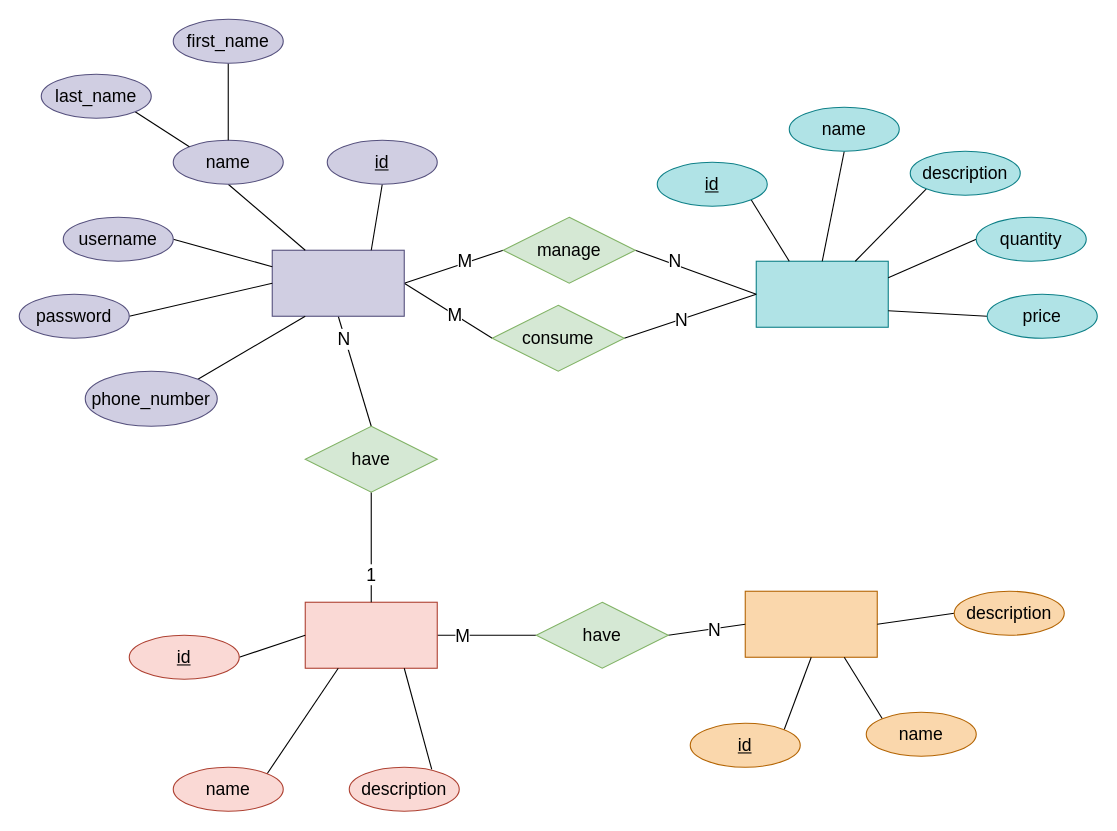
This 1117x831 diagram has some shape labels left out. The shapes that lost their labels are listed below. From the top down, each one's centre as x and y in pixels, then its label:
At point (337, 282): "User".
At point (821, 293): "Medicine".
At point (370, 634): "Role".
At point (810, 623): "Permission".
